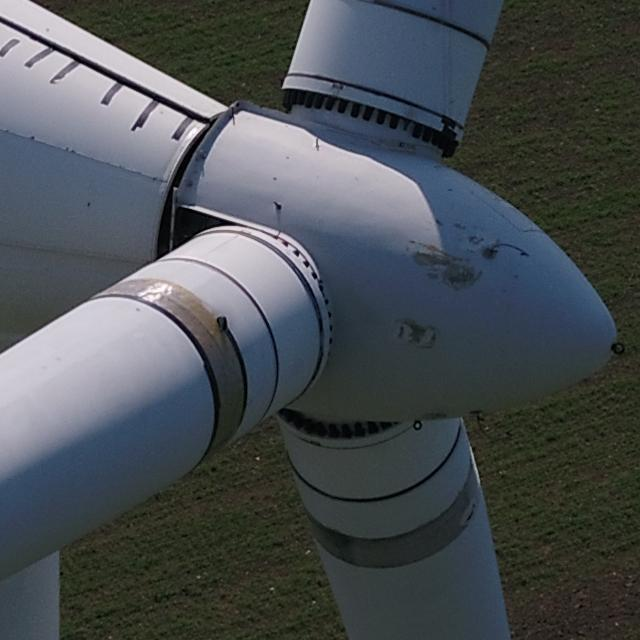damage: (392, 316, 442, 349), (436, 262, 486, 295), (412, 250, 451, 268), (433, 216, 443, 228)
